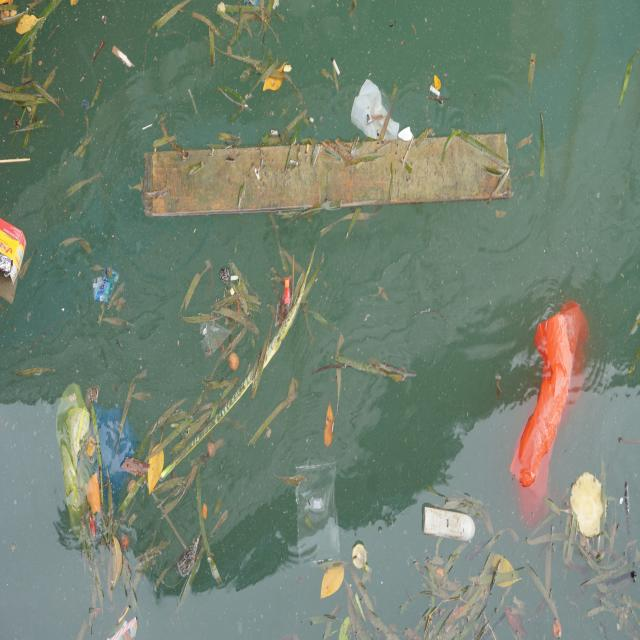Kantong Plastik: (511, 297, 590, 532), (50, 377, 143, 532), (290, 456, 349, 568), (350, 70, 417, 145)
